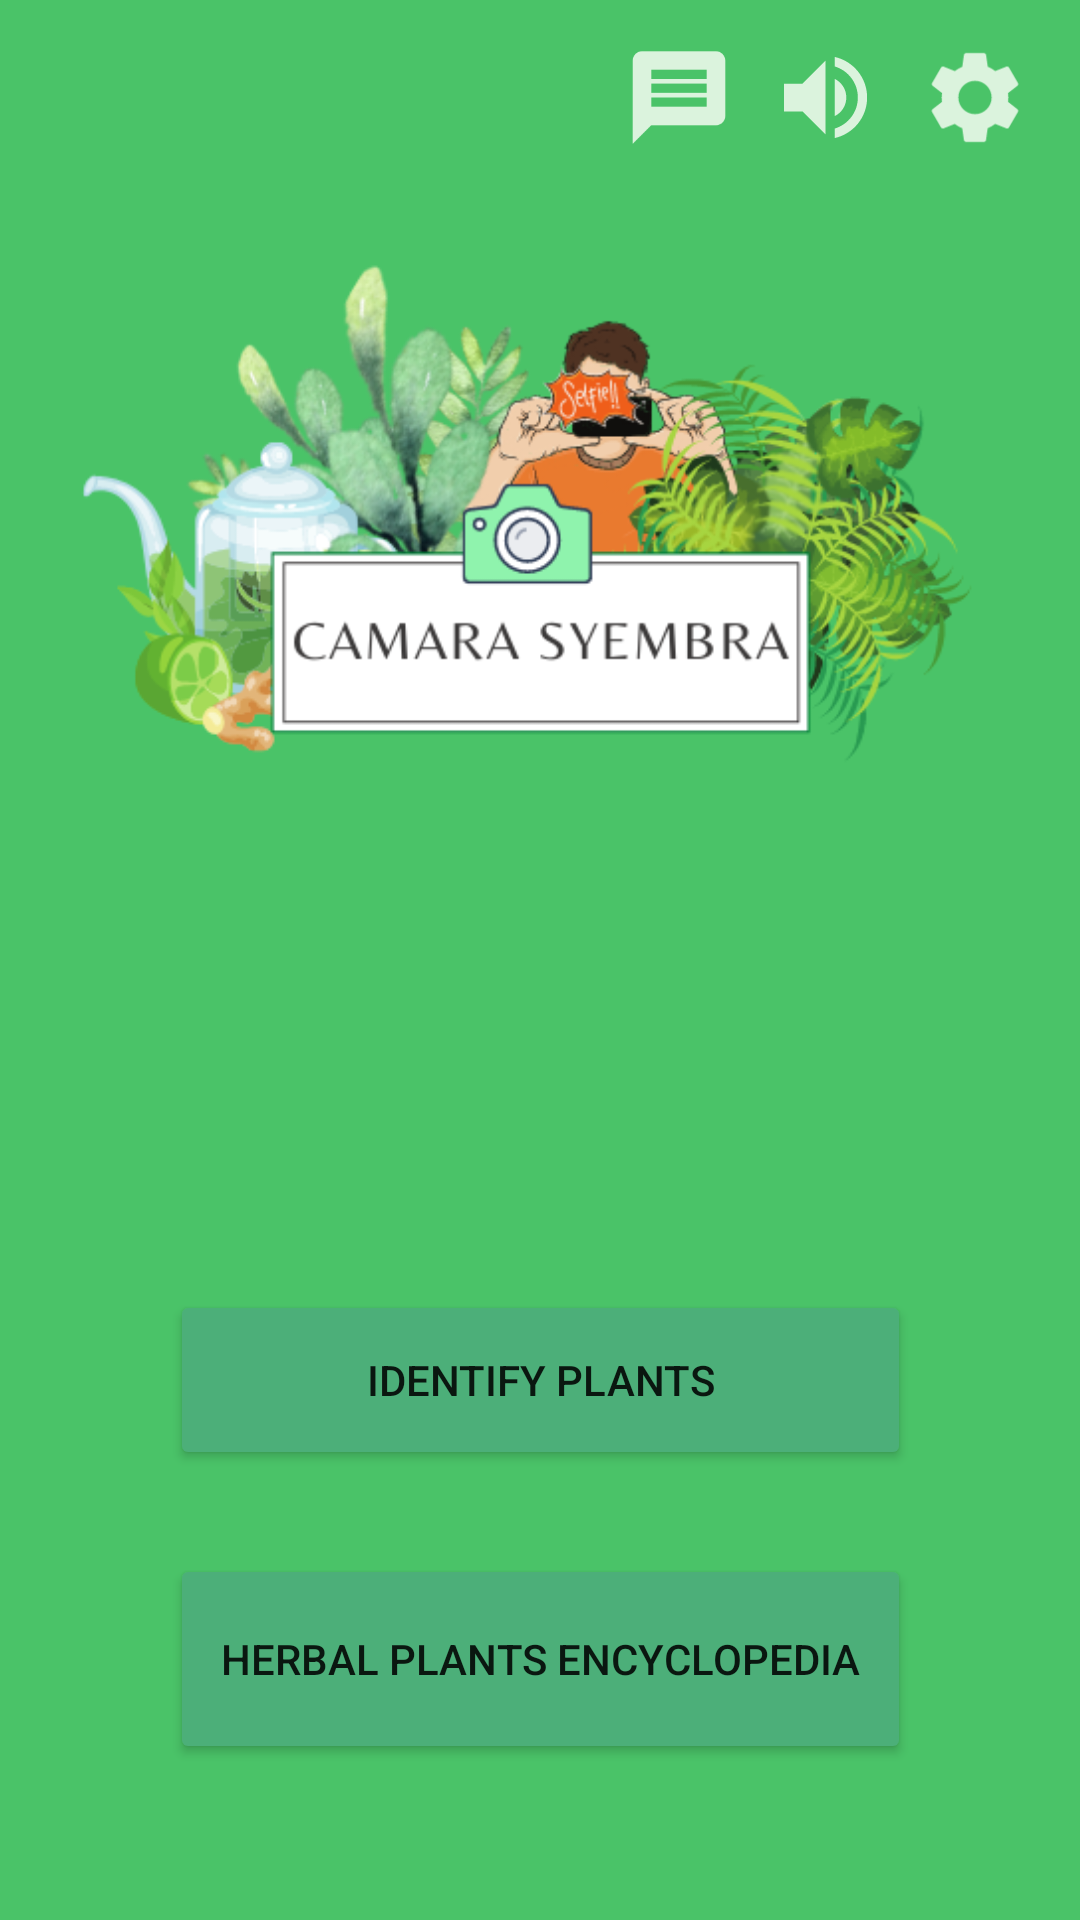

Icons on this 1080 x 1920 Android screen, each with the point to tap as point (x, y):
message: point (679, 97)
setting: point (975, 97)
